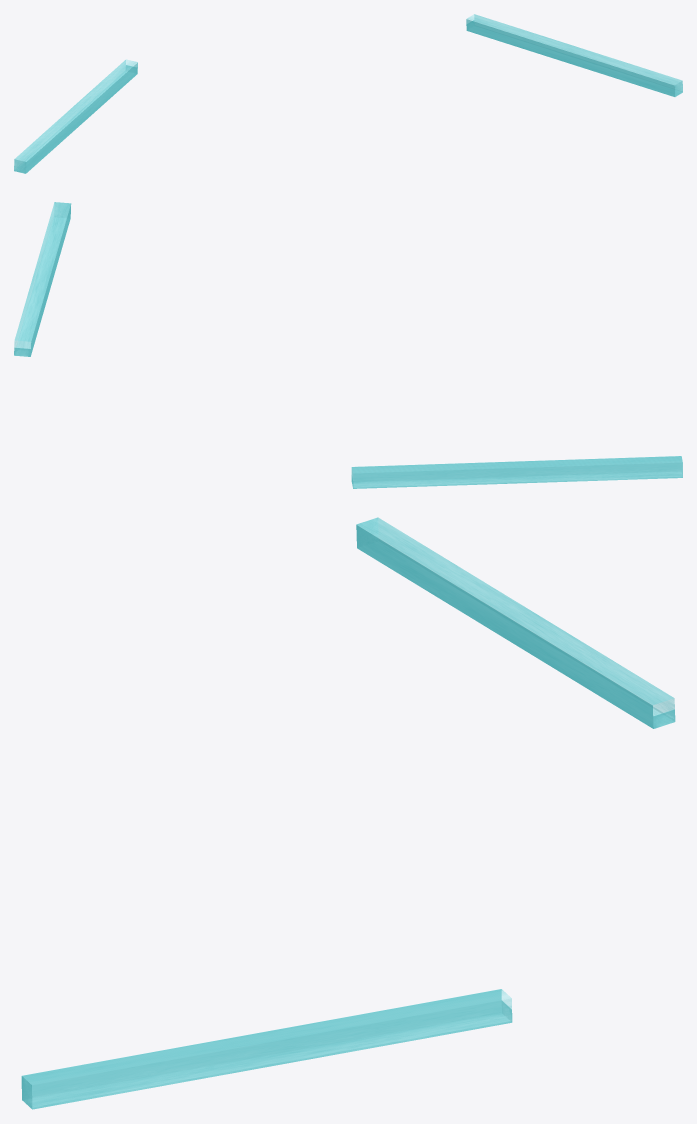
The model's file is laser_dome08.glb.
3 views of the same model, one above another, from view 1: azimuth 30°, elevation 25°; view 2: azimuth 150°, elevation 25°; view 3: azimuth 270°, elevation 25° (orthographic). The views are drawn at different scales.
Visible parts, largest first — view 1: Cube.104; view 2: Cube.104; view 3: Cube.104.
Boxes of the visible parts, <box> form: Cube.104: <box>14,14,682,173</box>; Cube.104: <box>14,202,682,488</box>; Cube.104: <box>21,517,675,1109</box>.
Size of the model in its own units: 2.37 by 0.0492 by 1.15.
1 material, 1 textured.
